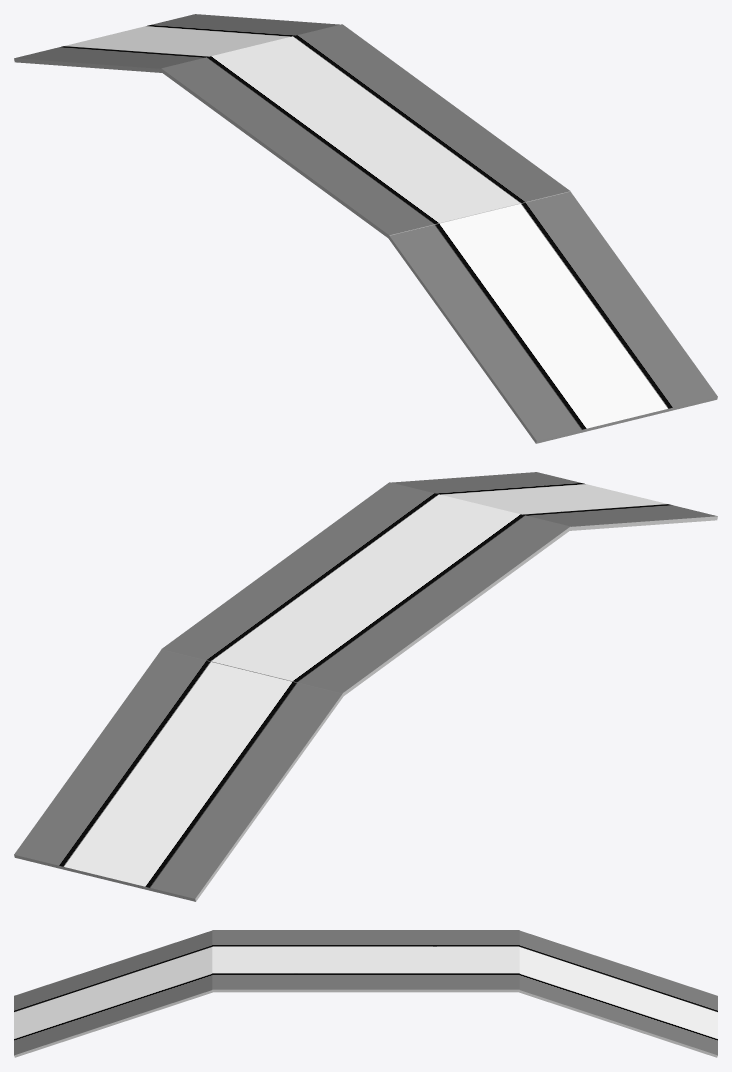
File: main.obj
3 views of the same model, one above another, from view 1: azimuth 30°, elevation 25°; view 2: azimuth 150°, elevation 25°; view 3: azimuth 270°, elevation 25° (orthographic). The views are drawn at different scales.
Parts seen in each view (by area): view 1: up, top, down; view 2: down, top, up; view 3: top, down, up.
Part boxes in pixels (x1,y1,x2,y2): up: (388, 191, 717, 443); top: (161, 24, 570, 238); down: (14, 14, 339, 72); down: (14, 650, 343, 901); top: (161, 482, 570, 696); up: (392, 472, 717, 530); top: (212, 930, 519, 992); down: (518, 930, 717, 1057); up: (14, 930, 212, 1057).
Size of the model in its own units: 100 by 53.37 by 499.
Materials: 2 (1 with a texture image).
